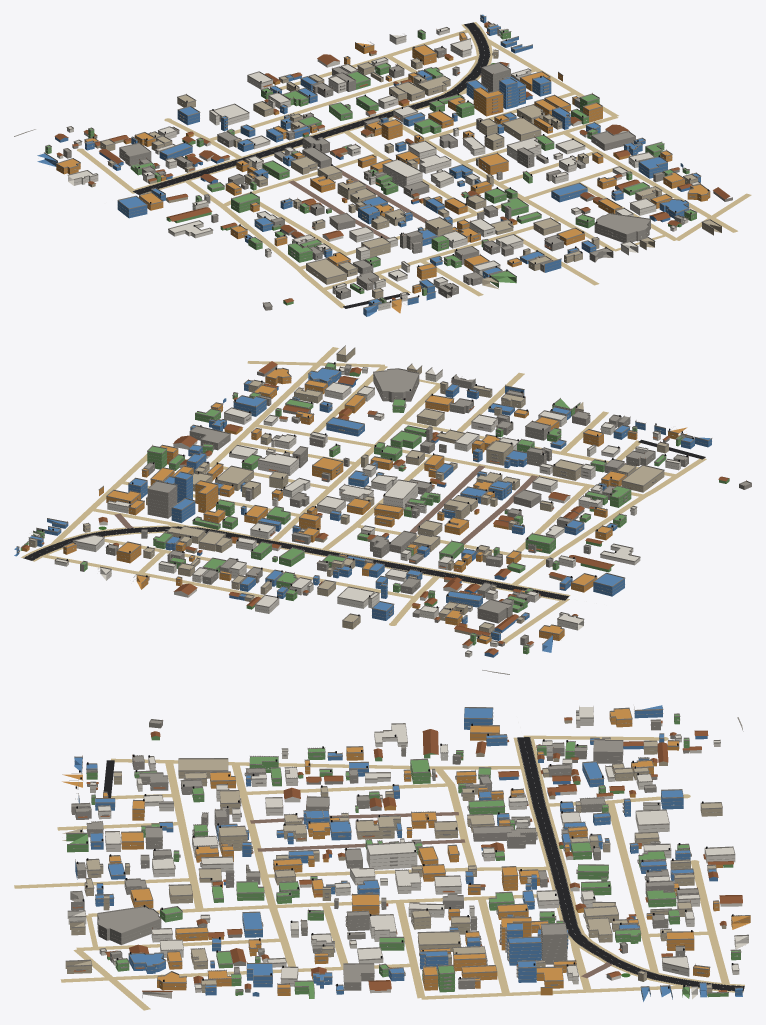
File: zone_t-3_1.glb
The picture shows the model from 3 angles, top to bottom: view 1: azimuth 30°, elevation 25°; view 2: azimuth 150°, elevation 25°; view 3: azimuth 270°, elevation 25°; orthographic projection. The views are drawn at different scales.
Parts seen in each view (by area): view 1: parapet_t-3_1, bld_peinture_blanc_t-3_1-col, bld_peinture_ecaillee_t-3_1-col, route_residential_terre_t-3_1, bld_beton_t-3_1-col, bld_peinture_bleu_t-3_1-col, bld_peinture_ocre_t-3_1-col, bld_peinture_vert_t-3_1-col, bandeau_t-3_1, toit_tole_t-3_1, route_secondary_bitume_t-3_1, accotement_t-3_1 (+3 smaller); view 2: parapet_t-3_1, bld_peinture_blanc_t-3_1-col, route_residential_terre_t-3_1, bld_beton_t-3_1-col, bld_peinture_ocre_t-3_1-col, bld_peinture_bleu_t-3_1-col, bld_peinture_ecaillee_t-3_1-col, bld_peinture_vert_t-3_1-col, bandeau_t-3_1, toit_tole_t-3_1, route_secondary_bitume_t-3_1, accotement_t-3_1 (+2 smaller); view 3: parapet_t-3_1, route_residential_terre_t-3_1, bld_peinture_blanc_t-3_1-col, bld_beton_t-3_1-col, bld_peinture_ocre_t-3_1-col, bld_peinture_bleu_t-3_1-col, bld_peinture_ecaillee_t-3_1-col, bld_peinture_vert_t-3_1-col, bandeau_t-3_1, toit_tole_t-3_1, route_secondary_bitume_t-3_1, accotement_t-3_1 (+3 smaller).
Part boxes in pixels (left/top/right/bottom): parapet_t-3_1: left=44, top=14, right=721, bottom=310; bld_peinture_blanc_t-3_1-col: left=57, top=28, right=699, bottom=310; bld_peinture_ecaillee_t-3_1-col: left=88, top=24, right=721, bottom=298; route_residential_terre_t-3_1: left=77, top=29, right=751, bottom=308; bld_beton_t-3_1-col: left=63, top=47, right=732, bottom=310; bld_peinture_bleu_t-3_1-col: left=37, top=14, right=700, bottom=316; bld_peinture_ocre_t-3_1-col: left=56, top=25, right=710, bottom=313; bld_peinture_vert_t-3_1-col: left=45, top=22, right=696, bottom=305; bandeau_t-3_1: left=46, top=18, right=720, bottom=313; toit_tole_t-3_1: left=54, top=22, right=730, bottom=302; route_secondary_bitume_t-3_1: left=133, top=22, right=490, bottom=194; accotement_t-3_1: left=134, top=22, right=492, bottom=193; parapet_t-3_1: left=16, top=345, right=751, bottom=654; bld_peinture_blanc_t-3_1-col: left=31, top=368, right=692, bottom=657; route_residential_terre_t-3_1: left=40, top=347, right=706, bottom=643; bld_beton_t-3_1-col: left=80, top=362, right=751, bottom=646; bld_peinture_ocre_t-3_1-col: left=22, top=368, right=687, bottom=644; bld_peinture_bleu_t-3_1-col: left=14, top=368, right=711, bottom=657; bld_peinture_ecaillee_t-3_1-col: left=29, top=346, right=668, bottom=636; bld_peinture_vert_t-3_1-col: left=20, top=363, right=729, bottom=654; bandeau_t-3_1: left=18, top=351, right=711, bottom=651; toit_tole_t-3_1: left=22, top=361, right=729, bottom=654; route_secondary_bitume_t-3_1: left=23, top=526, right=568, bottom=600; accotement_t-3_1: left=21, top=525, right=570, bottom=600; parapet_t-3_1: left=62, top=706, right=750, bottom=998; route_residential_terre_t-3_1: left=14, top=735, right=729, bottom=1010; bld_peinture_blanc_t-3_1-col: left=67, top=707, right=748, bottom=999; bld_beton_t-3_1-col: left=70, top=720, right=698, bottom=998; bld_peinture_ocre_t-3_1-col: left=62, top=709, right=750, bottom=995; bld_peinture_bleu_t-3_1-col: left=74, top=705, right=742, bottom=1001; bld_peinture_ecaillee_t-3_1-col: left=62, top=720, right=726, bottom=995; bld_peinture_vert_t-3_1-col: left=66, top=714, right=740, bottom=998; bandeau_t-3_1: left=66, top=711, right=749, bottom=993; toit_tole_t-3_1: left=86, top=717, right=742, bottom=993; route_secondary_bitume_t-3_1: left=517, top=737, right=744, bottom=991; accotement_t-3_1: left=513, top=737, right=744, bottom=992.
Bounding box in the file's own units: 531 × 25.9 × 554.
